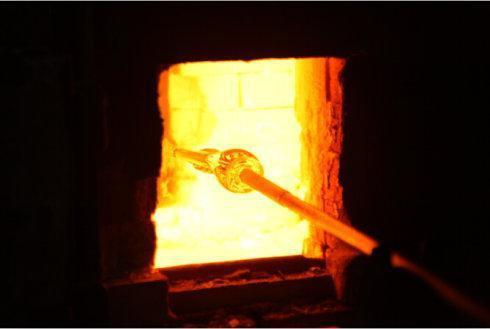fire: (145, 58, 315, 268)
